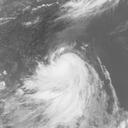cyclone: (29, 53, 101, 115)
